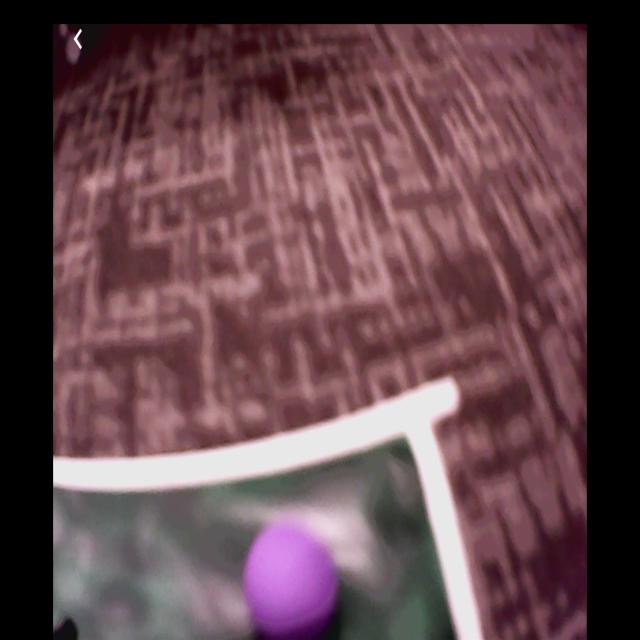ball: (243, 521, 341, 638)
